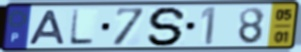1: (199, 5, 218, 47)
7: (112, 6, 146, 48)
8: (237, 6, 266, 46)
A: (26, 9, 67, 46)
L: (67, 8, 96, 47)
S: (146, 5, 189, 48)
